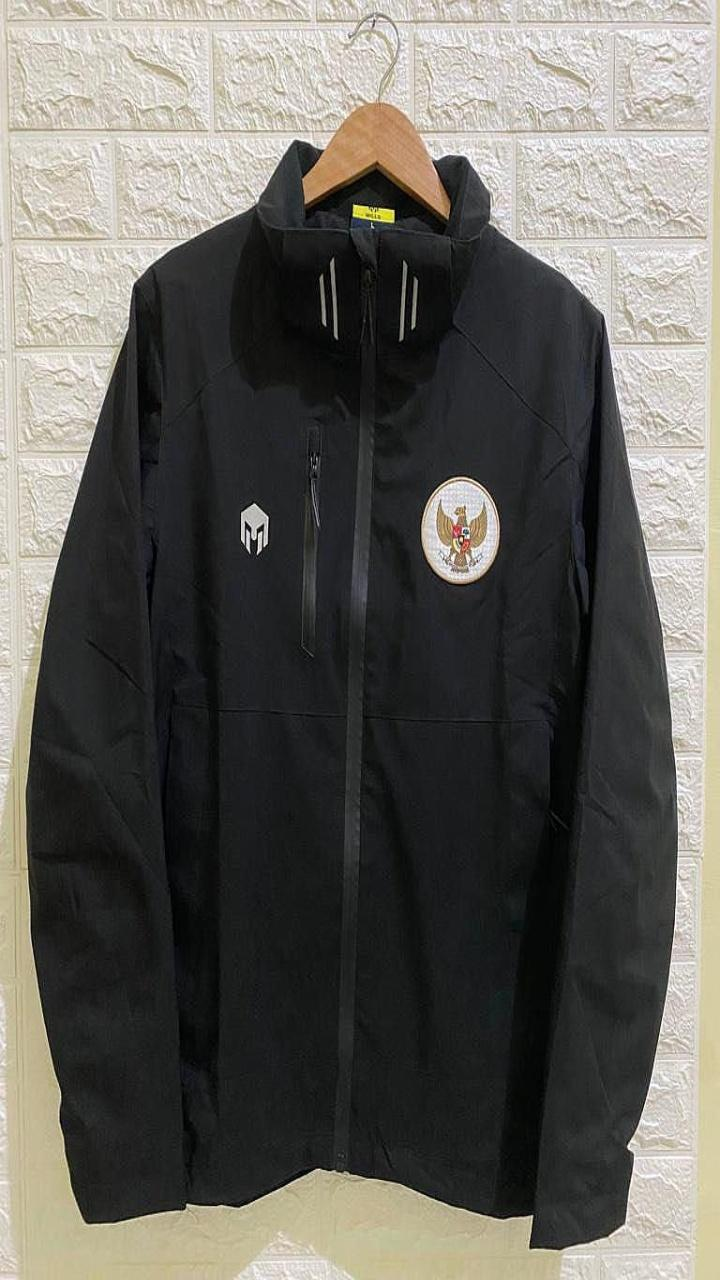Sports_Jacket: (25, 139, 677, 1248)
